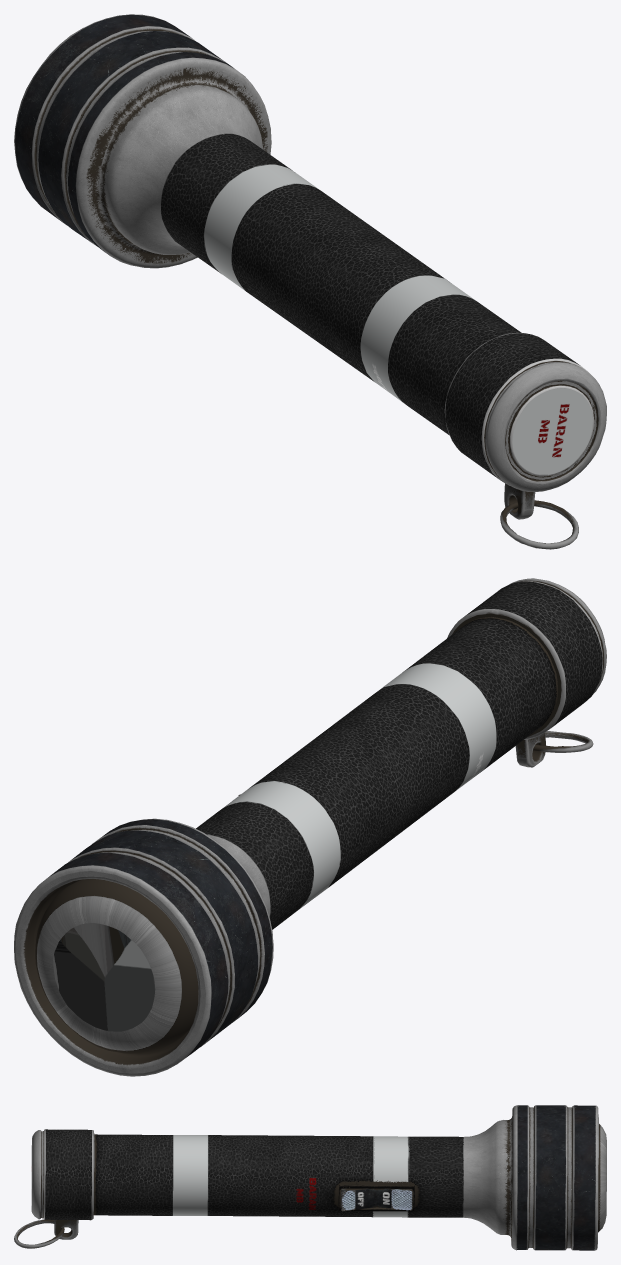
File: lamp2.obj
3 renders of one model, top to bottom at view 1: azimuth 30°, elevation 25°; view 2: azimuth 150°, elevation 25°; view 3: azimuth 270°, elevation 25°, orthographic. The views are drawn at different scales.
Parts seen in each view (by area): view 1: Untitled_2; view 2: Untitled_2; view 3: Untitled_2.
Part boxes in pixels (<box>): Untitled_2: <box>14,14,606,549</box>; Untitled_2: <box>14,578,606,1076</box>; Untitled_2: <box>14,1105,606,1250</box>.
Size of the model in its own units: 0.0339 by 0.034 by 0.1384.
1 material, 1 textured.
